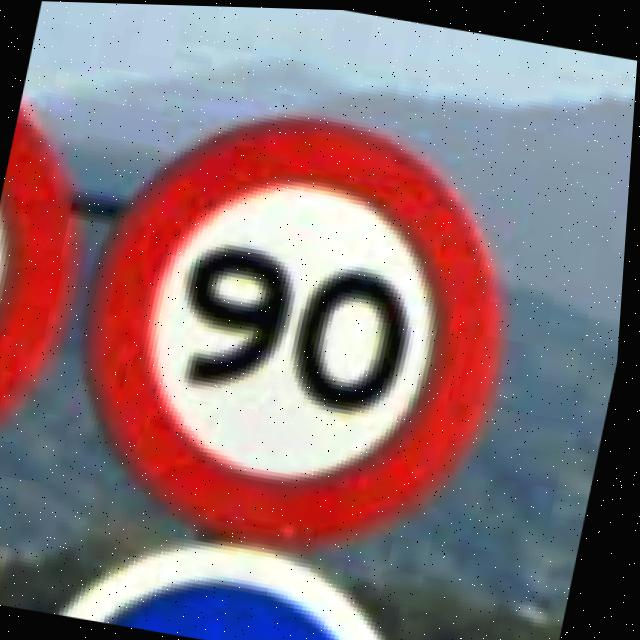max90: (47, 77, 552, 576)
